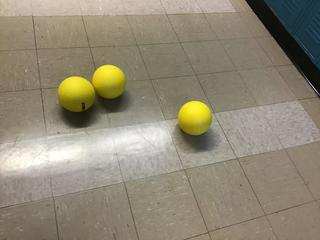power_cell: (56, 76, 97, 113), (176, 101, 214, 139), (93, 63, 126, 99)
